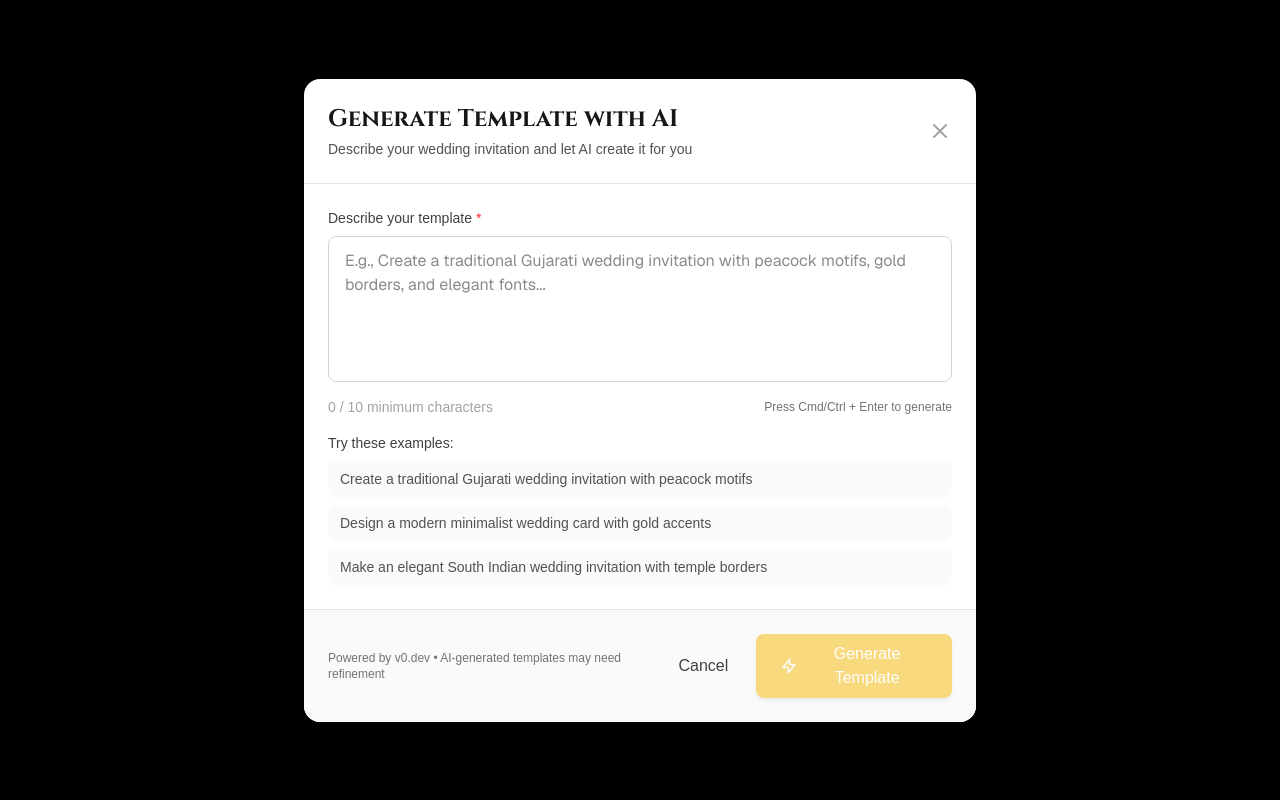
Test: AI Prompt Dialog › Generation Process › shows success message after generation
Replace the text in the text box with placeholder "Create a traditional" with "Valid prompt for testing" at (640, 308), box [328,236,952,382]
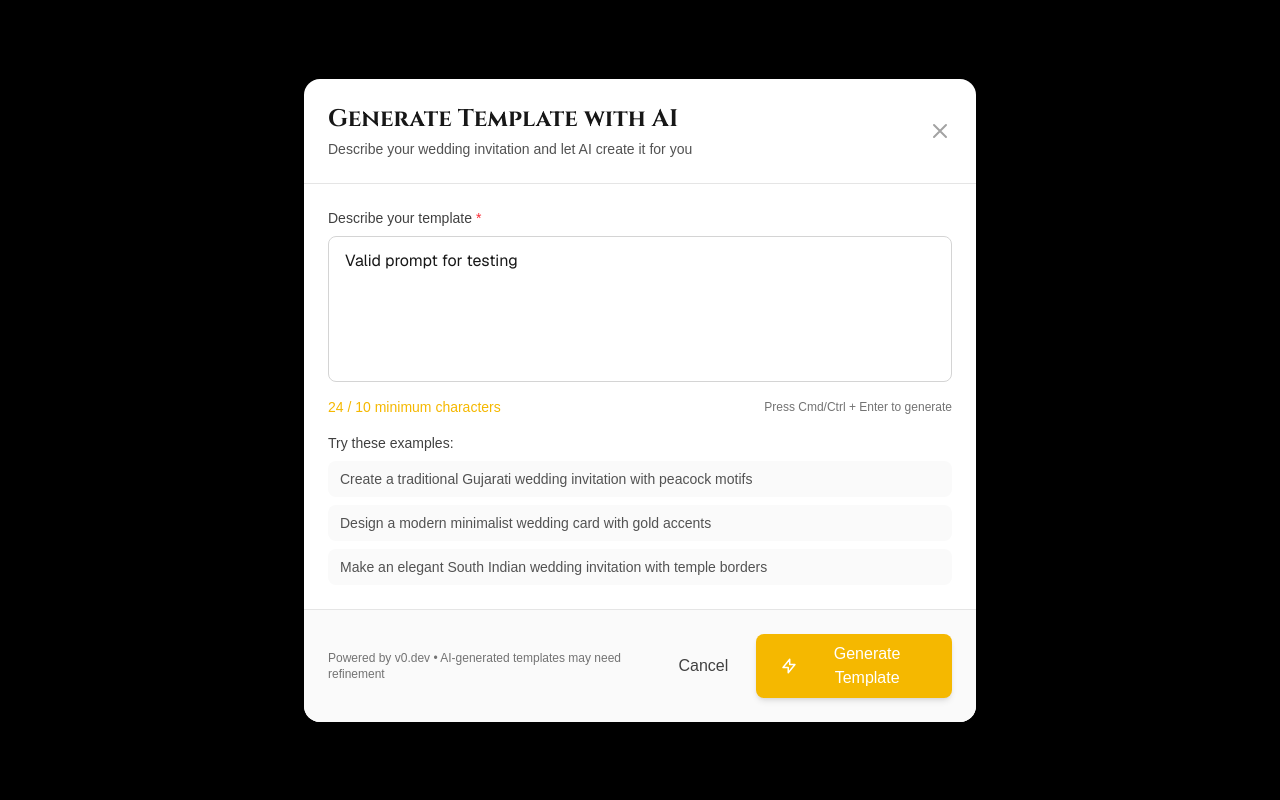
Click the button "Generate Template" at (854, 666), box [756,634,952,698]
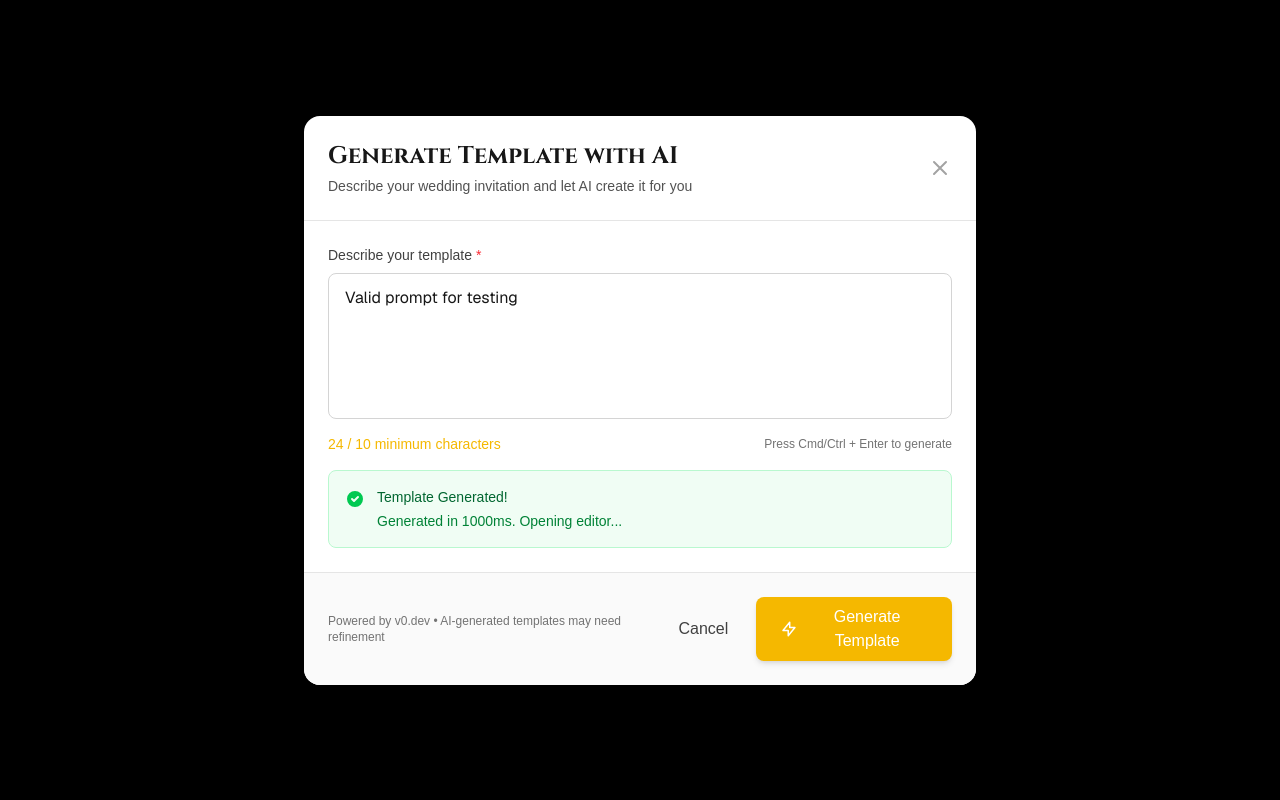
Now the heading "Template Generated!" is shown, box [377,488,508,504]
